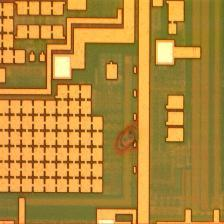PARTICLE: (113, 123, 142, 157)
